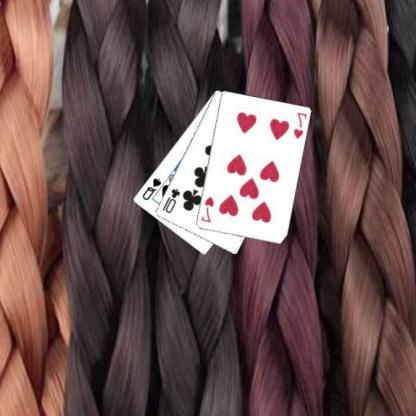10C: (161, 186, 183, 215)
7H: (200, 194, 217, 224), (293, 110, 309, 140)
QS: (142, 175, 165, 202)
